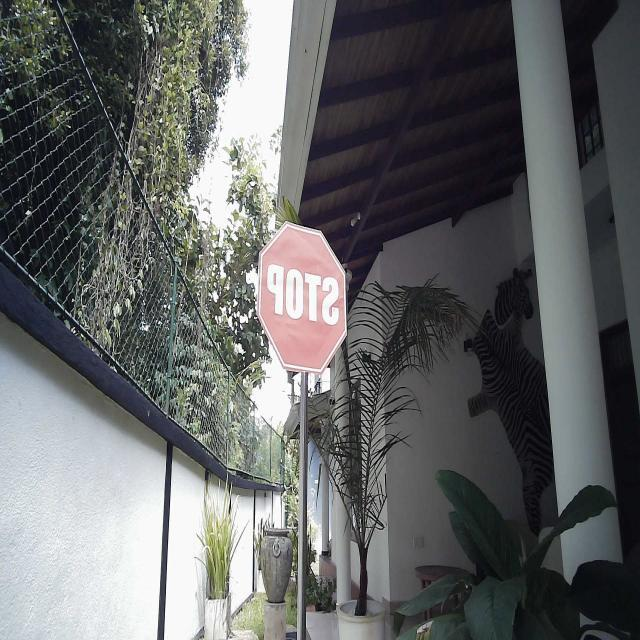stop: (255, 218, 349, 377)
